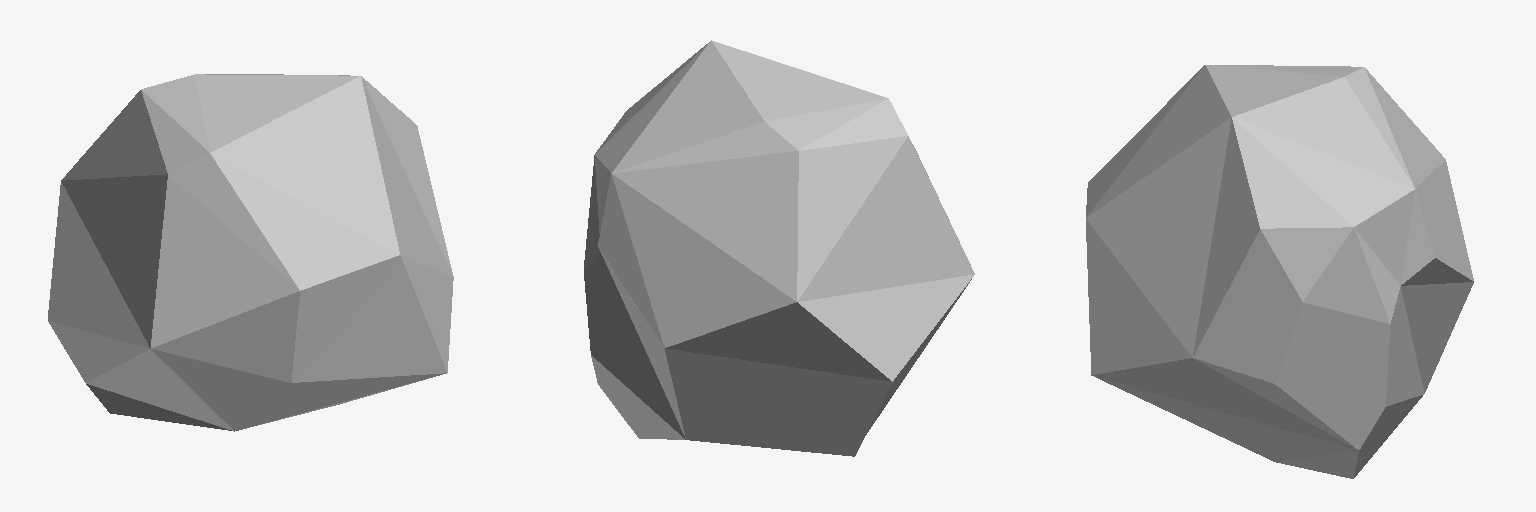
File: Rock_7.obj
3 views of the same model, side by side, from view 1: azimuth 30°, elevation 25°; view 2: azimuth 150°, elevation 25°; view 3: azimuth 270°, elevation 25° (orthographic).
Visible parts, largest first — view 1: Icosphere.035_Icosphere.135; view 2: Icosphere.035_Icosphere.135; view 3: Icosphere.035_Icosphere.135.
Part boxes in pixels (x1,y1,x2,y2): Icosphere.035_Icosphere.135: (48,74,453,431); Icosphere.035_Icosphere.135: (584,40,974,456); Icosphere.035_Icosphere.135: (1086,65,1473,478).
Size of the model in its own units: 1.62 by 1.66 by 1.64.